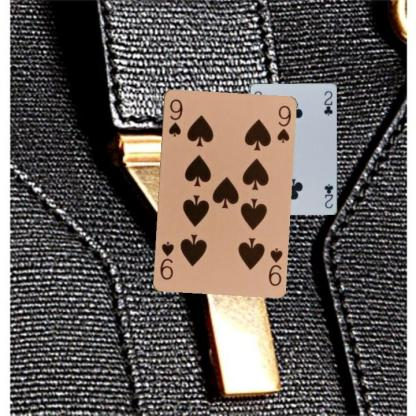2c: (323, 181, 334, 210)
9s: (165, 96, 184, 137), (266, 245, 284, 287)
